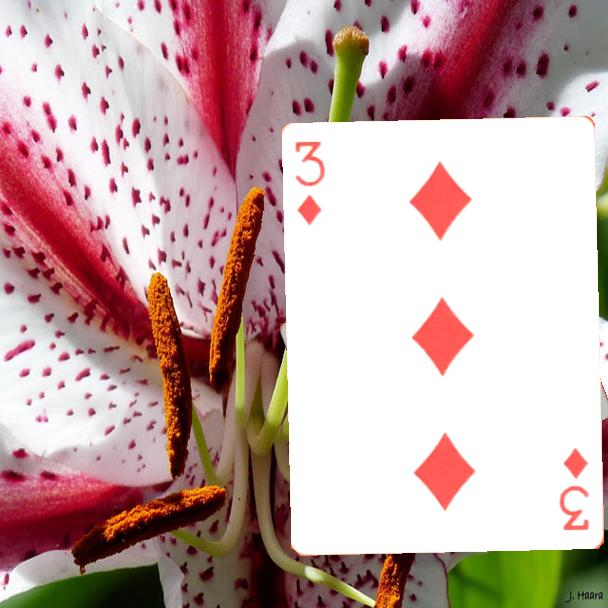d03: (291, 137, 328, 229), (557, 444, 593, 535)
